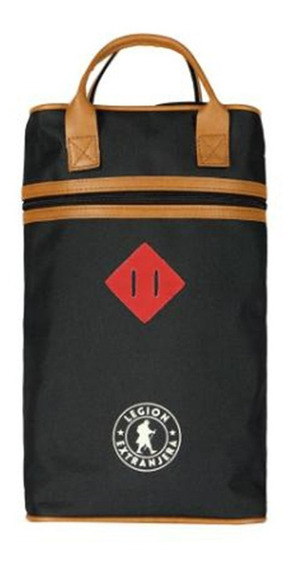cartera: (20, 33, 270, 527)
